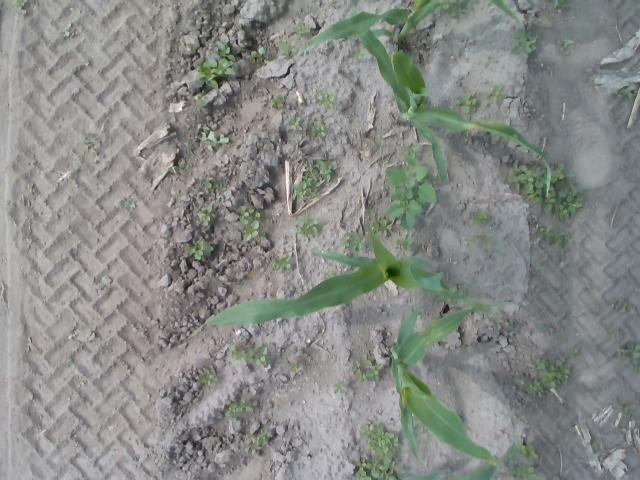Maize: (188, 219, 500, 340), (358, 28, 553, 200), (391, 300, 513, 472), (298, 0, 525, 56), (388, 443, 517, 480)
Weeds: (510, 162, 584, 221), (384, 155, 440, 232), (350, 420, 400, 480), (196, 40, 238, 92), (292, 155, 336, 203), (528, 357, 572, 398), (184, 122, 230, 154), (240, 205, 268, 244), (228, 344, 271, 368), (535, 224, 573, 251), (617, 340, 640, 372), (511, 30, 538, 56), (439, 0, 474, 20), (246, 427, 270, 456), (456, 88, 480, 116), (226, 397, 259, 417), (200, 176, 230, 198), (296, 216, 322, 241), (359, 360, 386, 384), (188, 238, 214, 262), (482, 84, 507, 108), (339, 229, 364, 253), (314, 87, 337, 110), (170, 159, 195, 180), (84, 132, 104, 156), (276, 39, 298, 60), (197, 204, 218, 226), (395, 232, 416, 254), (272, 253, 293, 274), (190, 96, 212, 116), (514, 442, 538, 460), (469, 210, 493, 228), (514, 465, 542, 480), (198, 368, 218, 389), (333, 379, 352, 400), (372, 218, 393, 237), (308, 121, 330, 138), (250, 46, 268, 66), (294, 20, 314, 38), (558, 38, 574, 58), (266, 94, 286, 110), (286, 113, 302, 133), (10, 0, 28, 17), (510, 410, 525, 430), (403, 141, 421, 157), (286, 362, 306, 376), (63, 20, 76, 40), (615, 296, 630, 312), (354, 46, 369, 61), (528, 259, 544, 273), (462, 233, 478, 247), (618, 399, 636, 411), (612, 328, 622, 346), (100, 276, 112, 290), (85, 327, 96, 342), (540, 325, 556, 334), (552, 0, 570, 8), (622, 88, 634, 100), (483, 234, 493, 248), (321, 270, 338, 278), (125, 200, 138, 210), (351, 360, 360, 374), (280, 350, 292, 359), (68, 331, 80, 340), (26, 337, 32, 354), (74, 158, 84, 168), (492, 249, 503, 258), (571, 347, 581, 354), (66, 358, 74, 366), (552, 476, 562, 480), (78, 382, 86, 387)
